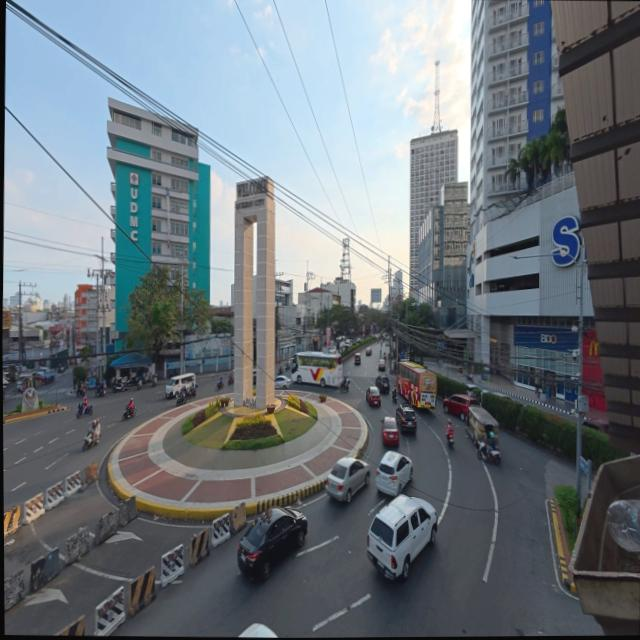car: (363, 492, 437, 583), (236, 504, 309, 587), (324, 456, 372, 506), (374, 448, 413, 496), (381, 416, 402, 447), (365, 385, 380, 406), (274, 374, 291, 389)
vans: (164, 373, 197, 401)
